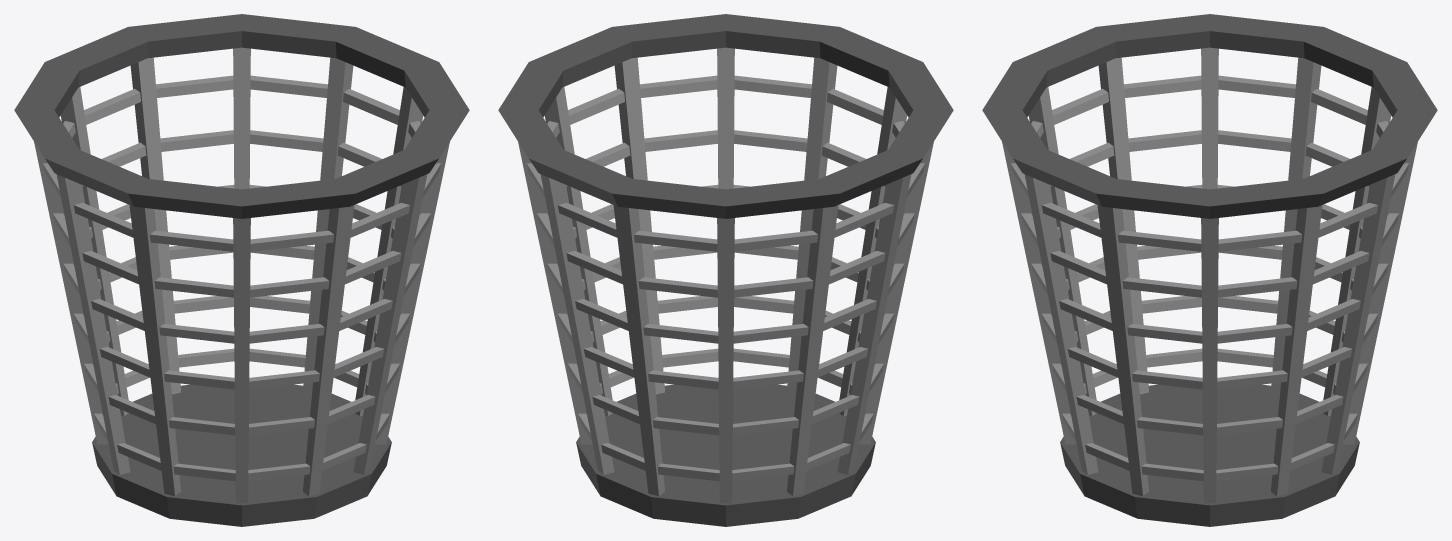
Rendered from Trashcan_2.fbx.
3 views of the same model, side by side, from view 1: azimuth 30°, elevation 25°; view 2: azimuth 150°, elevation 25°; view 3: azimuth 270°, elevation 25° (orthographic).
Visible parts, largest first — view 1: Trashcan_2; view 2: Trashcan_2; view 3: Trashcan_2.
Boxes of the visible parts, x1,y1,x2,y2 form: Trashcan_2: [14, 14, 469, 526]; Trashcan_2: [498, 14, 953, 526]; Trashcan_2: [982, 14, 1437, 526].
Size of the model in its own units: 50.54 by 50.54 by 43.53.
